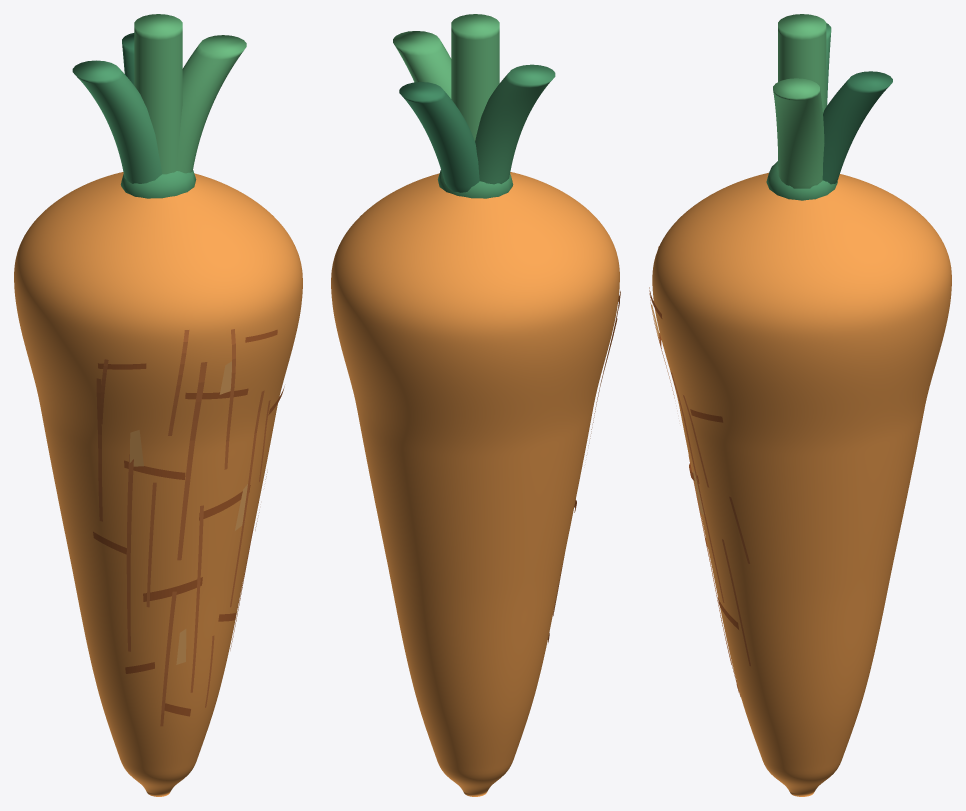
The model's file is Crop_Carrot_Normal_v001_model_r02.fbx.
3 renders of one model, left to right at view 1: azimuth 30°, elevation 25°; view 2: azimuth 150°, elevation 25°; view 3: azimuth 270°, elevation 25°, orthographic.
Parts seen in each view (by area): view 1: Crop_Carrot_Normal_v001_Body_Blockout, LeafStem_Primary_Center, LeafStem_Secondary_Left, LeafStem_Primary_Right, LeafStem_RoundedRoot_Knot, CarrotSkinGrain_04, CarrotSkinGrain_02, CarrotSkinGrain_01, CarrotSkinGrain_06, CarrotSkinGrain_00, CarrotSkinGrain_03, CarrotSkinGrain_07 (+2 smaller); view 2: Crop_Carrot_Normal_v001_Body_Blockout, LeafStem_Secondary_Left, LeafStem_Primary_Center, LeafStem_Shadow_Back, LeafStem_Primary_Right, LeafStem_RoundedRoot_Knot; view 3: Crop_Carrot_Normal_v001_Body_Blockout, LeafStem_Primary_Right, LeafStem_Shadow_Back, LeafStem_Primary_Center, LeafStem_RoundedRoot_Knot.
Part boxes in pixels (<box>): Crop_Carrot_Normal_v001_Body_Blockout: <box>14,172,302,796</box>; LeafStem_Primary_Center: <box>134,14,182,174</box>; LeafStem_Secondary_Left: <box>72,60,162,183</box>; LeafStem_Primary_Right: <box>177,35,246,173</box>; LeafStem_RoundedRoot_Knot: <box>120,170,196,198</box>; CarrotSkinGrain_04: <box>177,362,207,560</box>; CarrotSkinGrain_02: <box>126,454,133,651</box>; CarrotSkinGrain_01: <box>190,505,203,692</box>; CarrotSkinGrain_06: <box>96,378,102,521</box>; CarrotSkinGrain_00: <box>160,591,176,726</box>; CarrotSkinGrain_03: <box>230,390,264,607</box>; CarrotSkinGrain_07: <box>224,329,235,469</box>; Crop_Carrot_Normal_v001_Body_Blockout: <box>331,172,619,796</box>; LeafStem_Secondary_Left: <box>475,64,555,184</box>; LeafStem_Primary_Center: <box>451,14,499,140</box>; LeafStem_Shadow_Back: <box>399,82,479,192</box>; LeafStem_Primary_Right: <box>393,31,451,98</box>; LeafStem_RoundedRoot_Knot: <box>437,170,513,198</box>; Crop_Carrot_Normal_v001_Body_Blockout: <box>652,172,951,796</box>; LeafStem_Primary_Right: <box>773,78,824,188</box>; LeafStem_Shadow_Back: <box>822,71,892,184</box>; LeafStem_Primary_Center: <box>778,14,826,166</box>; LeafStem_RoundedRoot_Knot: <box>766,161,837,200</box>.
Bounding box in the file's own units: 99.72 × 297 × 106.
